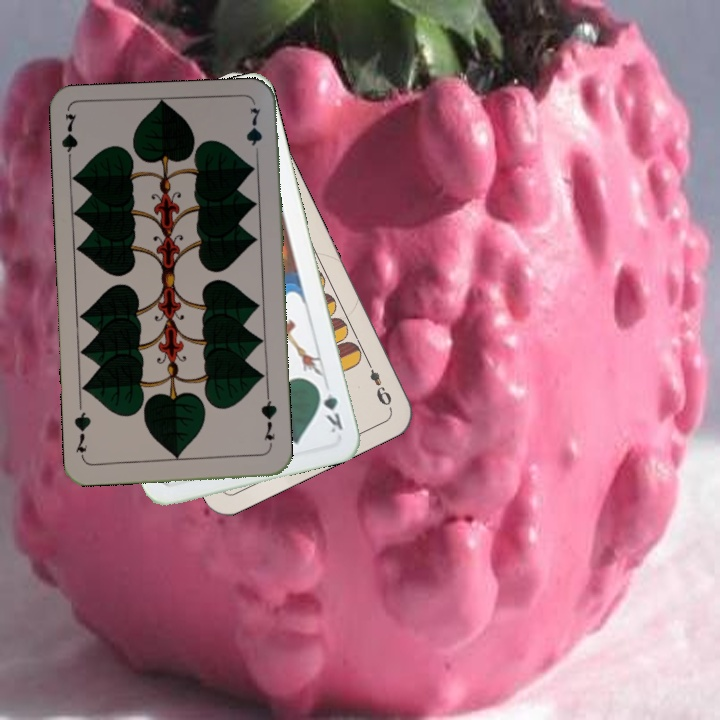E9: (362, 355, 395, 409)
G7: (58, 110, 80, 170), (257, 393, 280, 443)
GK: (313, 381, 346, 436)
